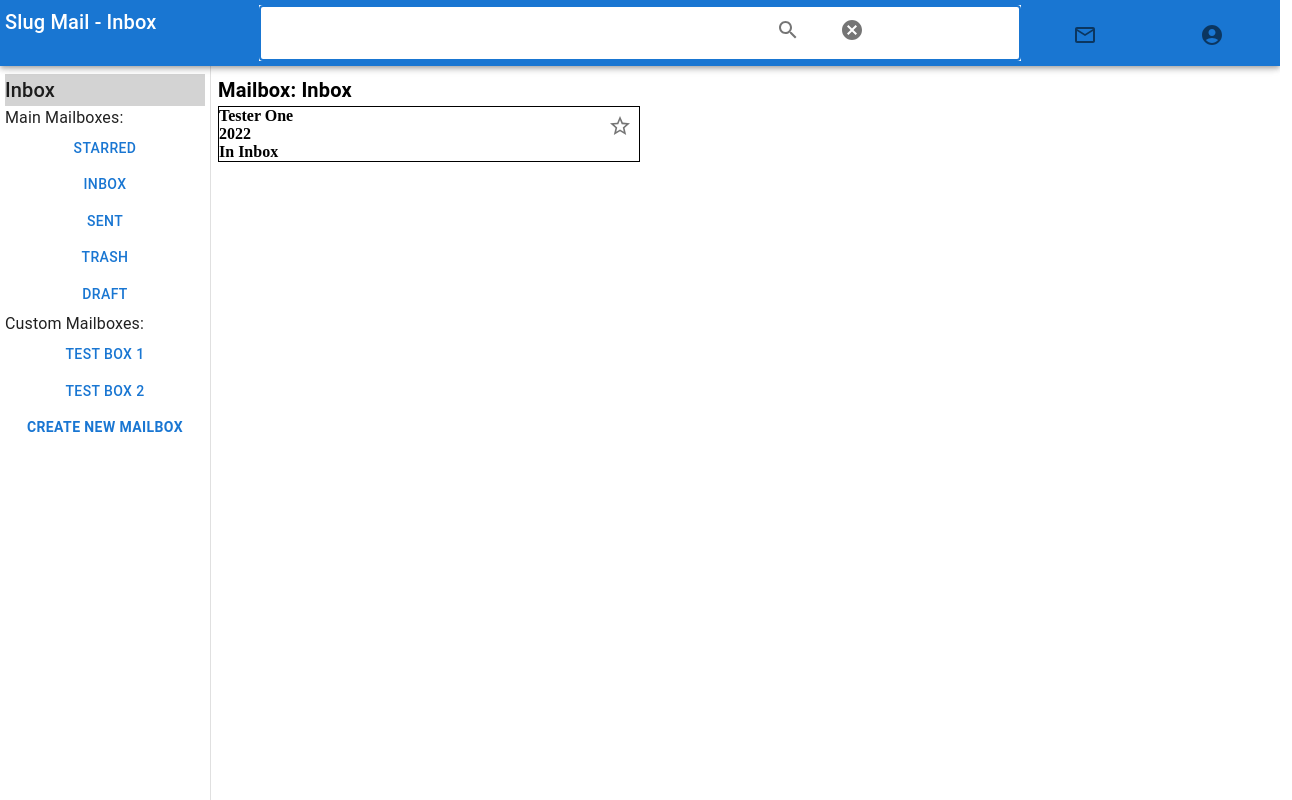
Test: Look at trash
Check: the text "Mailbox: Inbox" is shown, box [218, 78, 352, 102]
Click the button "Trash".
click(105, 257)  # box [5, 239, 205, 276]
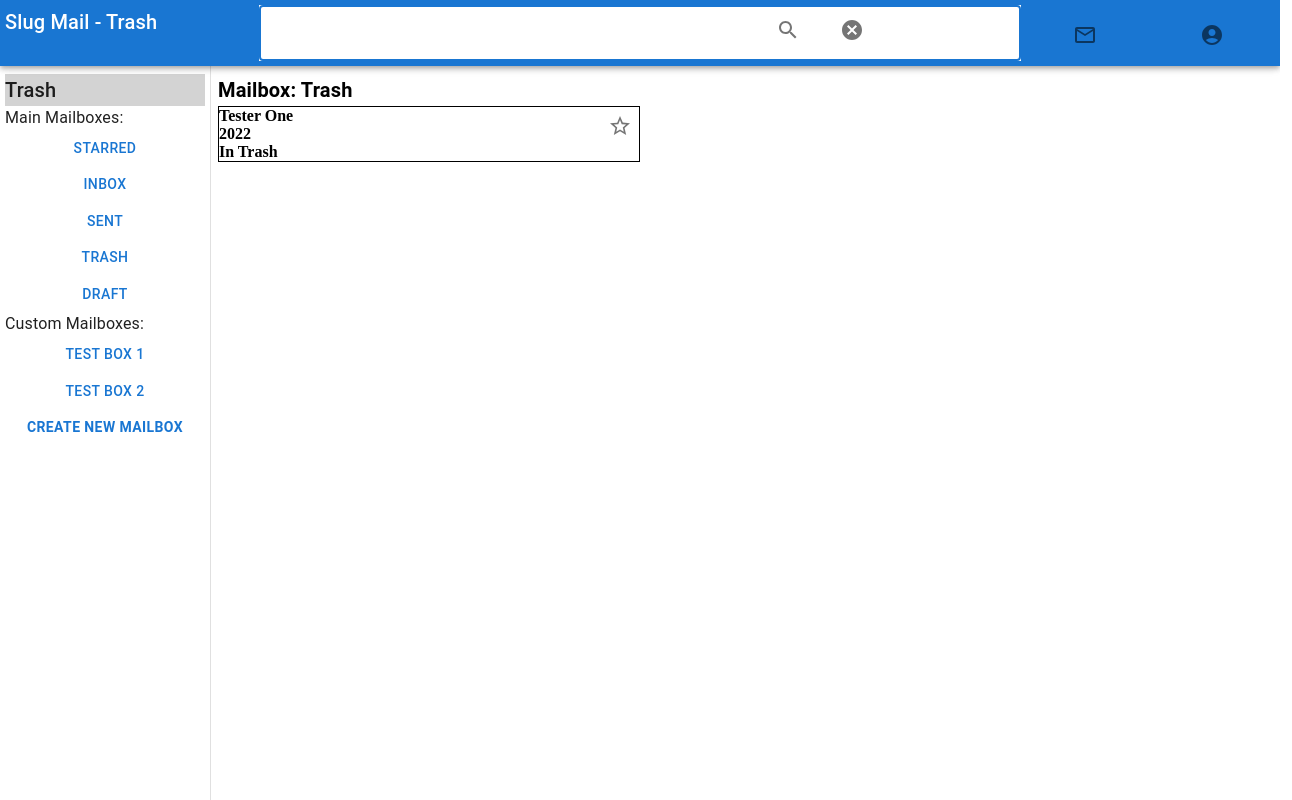
Check: the text "Mailbox: Trash" is shown, box [218, 78, 352, 102]
Check: the text "In Trash" is shown, box [219, 143, 278, 160]
